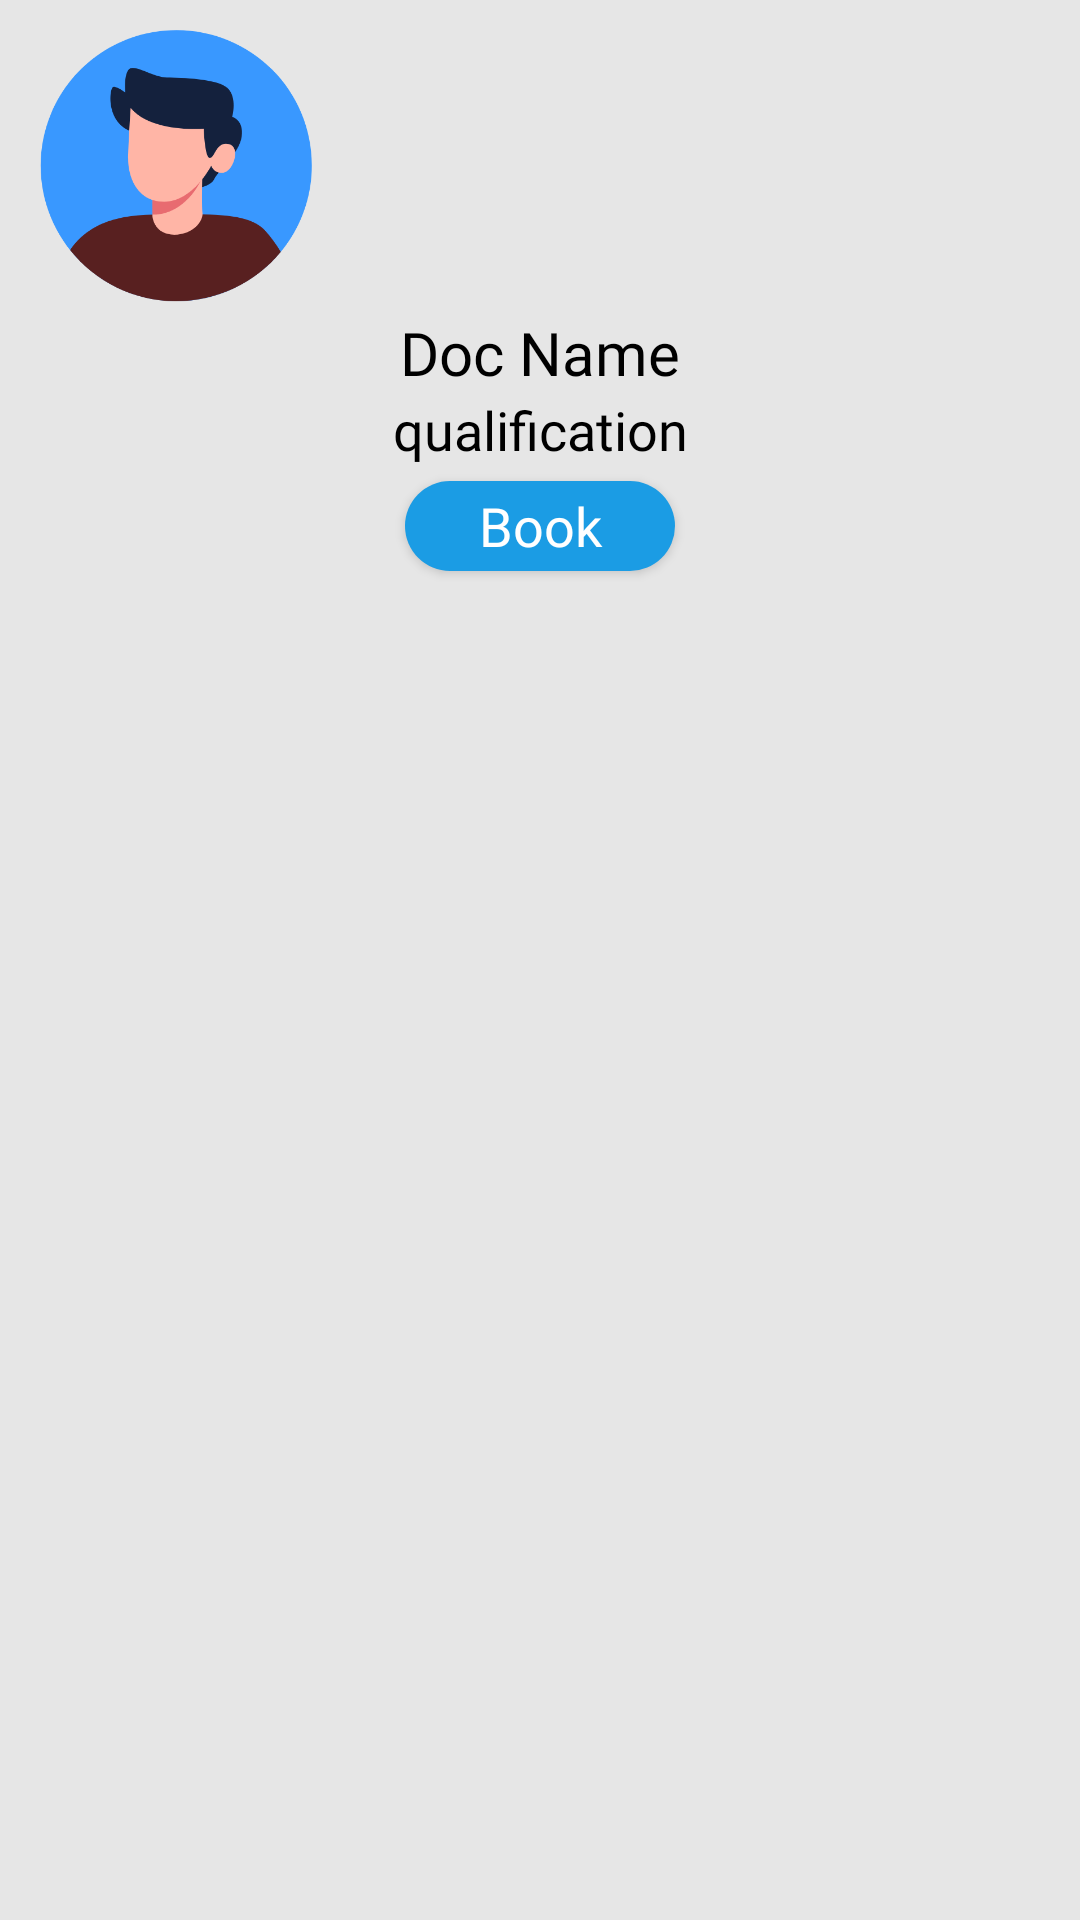

Where to tap for icons on this 1080x1920 app screen, as point (x, y):
person: point (176, 165)
